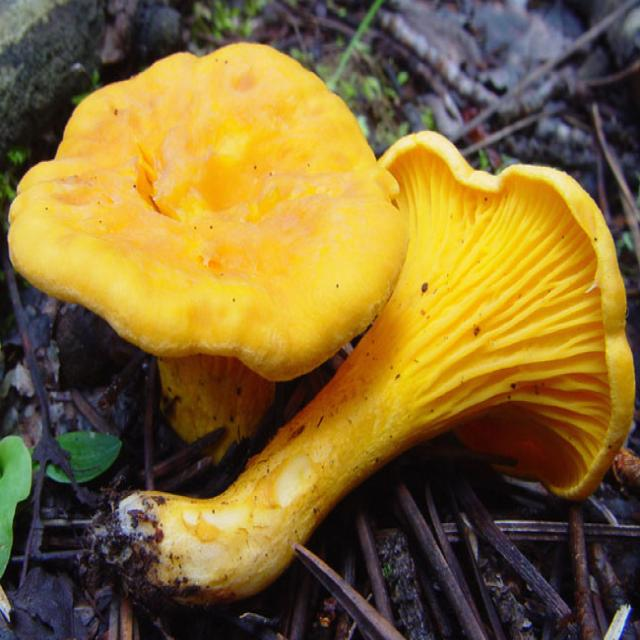chanterelle: (96, 132, 636, 619), (7, 42, 412, 442)
